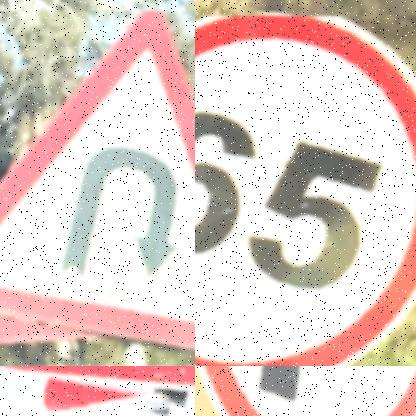Left bend: (4, 366, 195, 392)
Parking: (195, 366, 416, 416)
Speed Limit -65 kmph-: (195, 17, 416, 366)
U-Turn: (0, 11, 195, 352)
